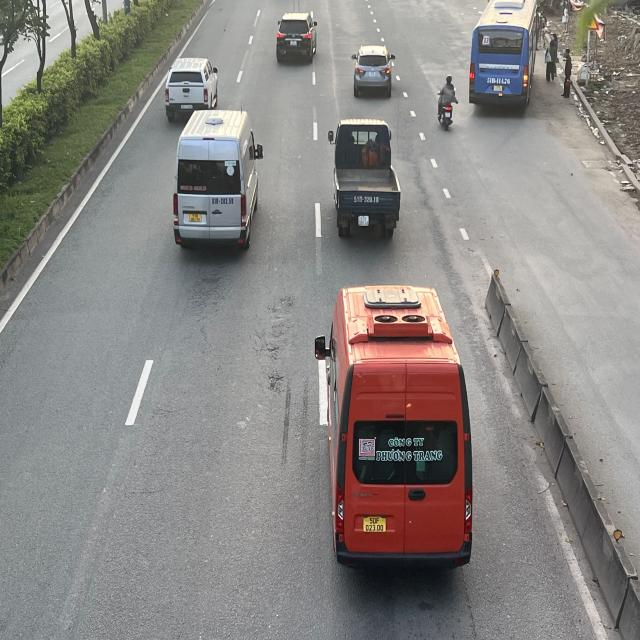car: (168, 57, 222, 118), (274, 10, 318, 62), (351, 46, 394, 97)
coach: (471, 0, 541, 109)
truck: (329, 118, 399, 234)
van: (319, 288, 478, 572), (175, 108, 265, 249)
